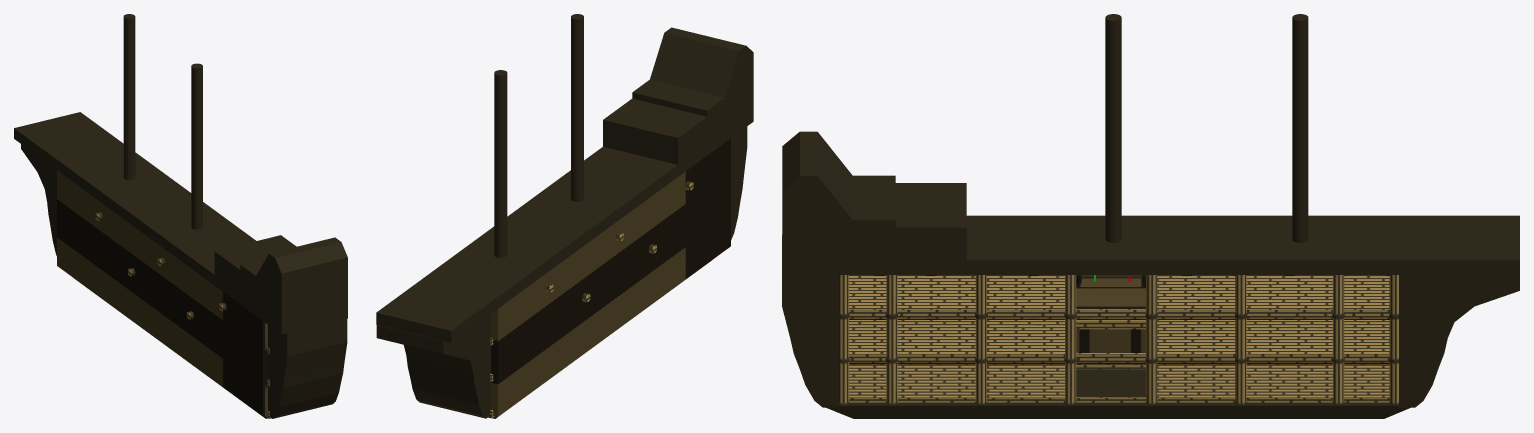
File: Ship.fbx
3 renders of one model, left to right at view 1: azimuth 30°, elevation 25°; view 2: azimuth 150°, elevation 25°; view 3: azimuth 270°, elevation 25°, orthographic. The views are drawn at different scales.
Visible parts, largest first — view 1: ShipBorder; view 2: ShipBorder; view 3: ShipBorder, Elevator.
Boxes of the visible parts, x1,y1,x2,y2 form: ShipBorder: (14,14,347,418); ShipBorder: (376,14,753,418); ShipBorder: (782,14,1519,418); Elevator: (1076,275,1145,308).
Size of the model in its own units: 1362 by 5200 by 9088.
